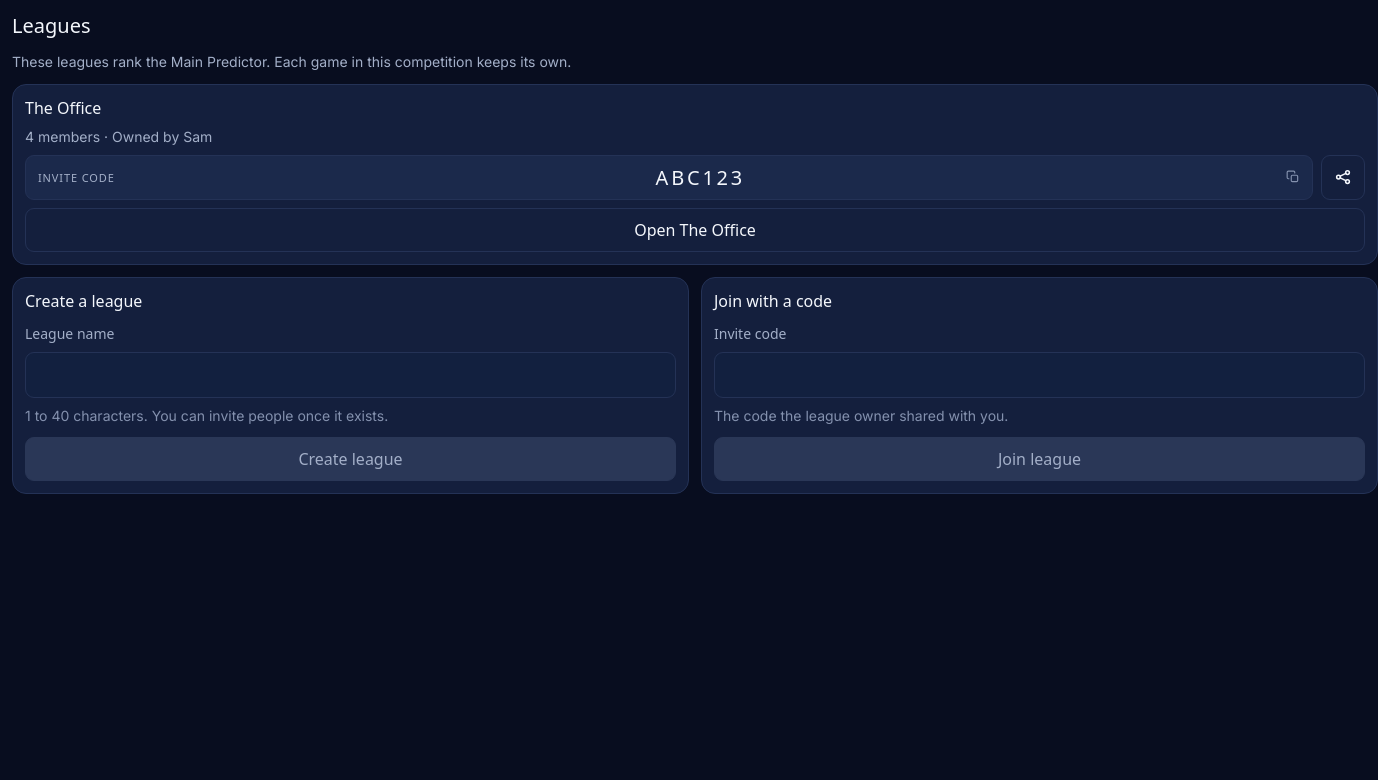
the competition leagues surface › opens a league into its own table, and reads it only when asked
The width and height of the screenshot is (1378, 780).
Expected: the heading "The Office" is shown, x1=25 y1=97 x2=101 y2=119
Click the button "Open The Office": click(695, 230) x1=25 y1=208 x2=1365 y2=252
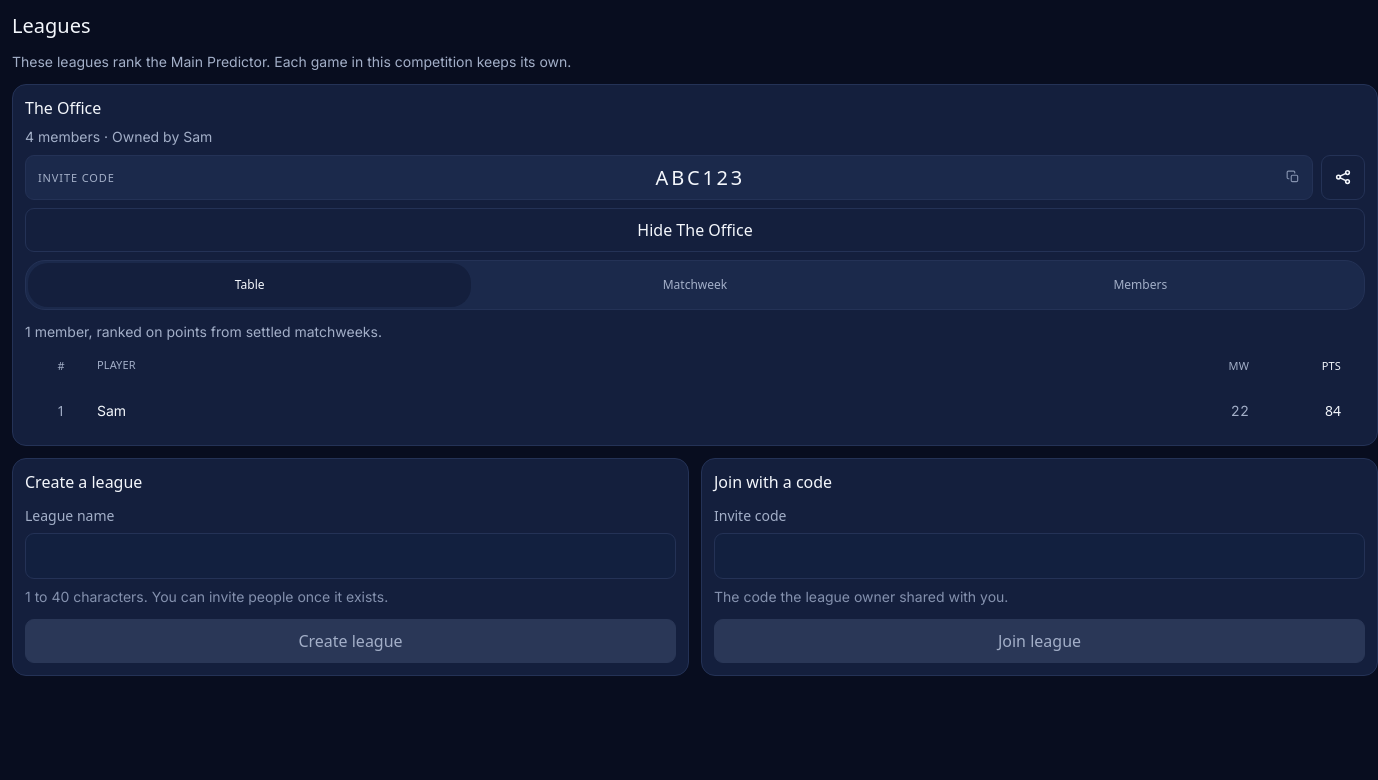
Expected: the text "Sam" is shown, x1=97 y1=402 x2=126 y2=419
